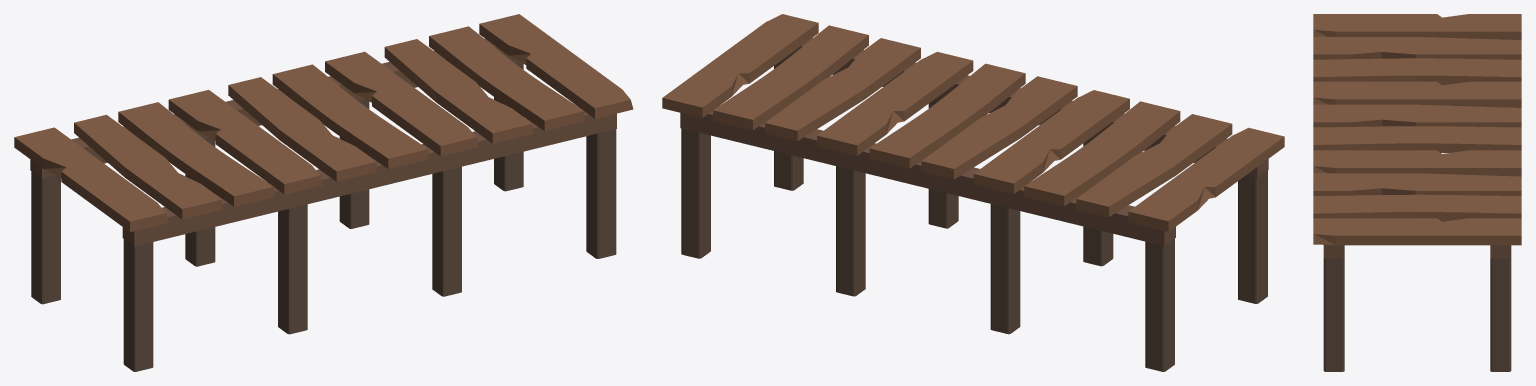
Rendered from Muelle.fbx.
The picture shows the model from 3 angles, left to right: view 1: azimuth 30°, elevation 25°; view 2: azimuth 150°, elevation 25°; view 3: azimuth 270°, elevation 25°; orthographic projection. The views are drawn at different scales.
Parts seen in each view (by area): view 1: tablas, MoronColumna, MorónBase; view 2: tablas, MoronColumna, MorónBase; view 3: tablas, MoronColumna, MorónBase.
Boxes of the visible parts, x1=… form: tablas: x1=14, y1=14, x2=633, y2=232; MoronColumna: x1=31, y1=62, x2=616, y2=371; MorónBase: x1=30, y1=38, x2=616, y2=246; tablas: x1=662, y1=14, x2=1284, y2=231; MoronColumna: x1=681, y1=62, x2=1267, y2=371; MorónBase: x1=680, y1=37, x2=1268, y2=246; tablas: x1=1313, y1=14, x2=1521, y2=245; MoronColumna: x1=1323, y1=258, x2=1511, y2=371; MorónBase: x1=1323, y1=245, x2=1511, y2=258.
Bounding box in the file's own units: 2520 × 750 × 1000.
